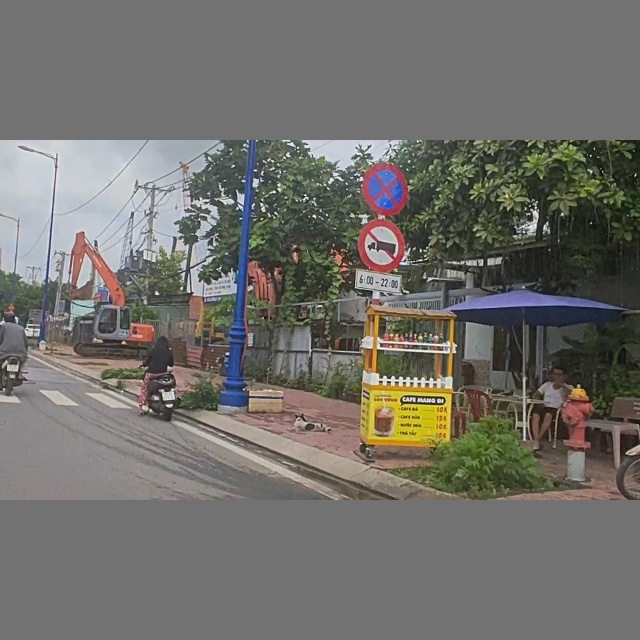B.8a: (357, 219, 406, 274)
P.130: (362, 163, 409, 216)
